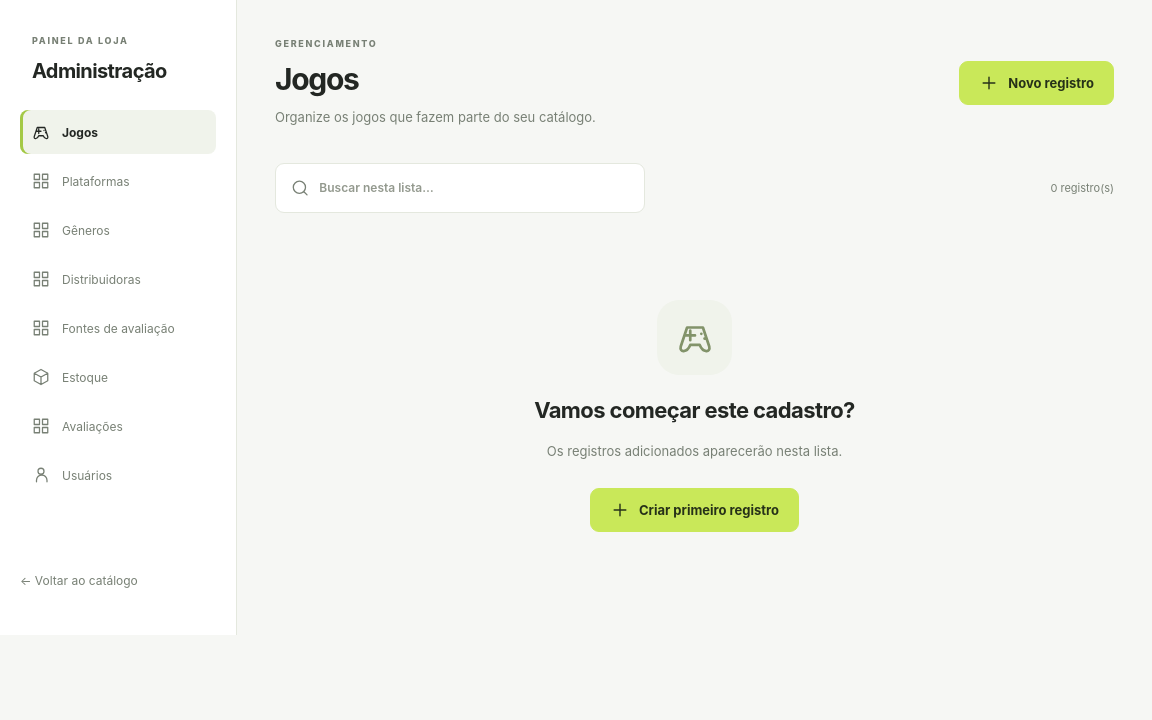
it: Formulários e fluxos do frontend › não deixa salvar jogo sem cadastros relacionados
The width and height of the screenshot is (1152, 720).
Click the button "Novo registro" at (1037, 83), box x1=959 y1=61 x2=1114 y2=105
(page scrolled)
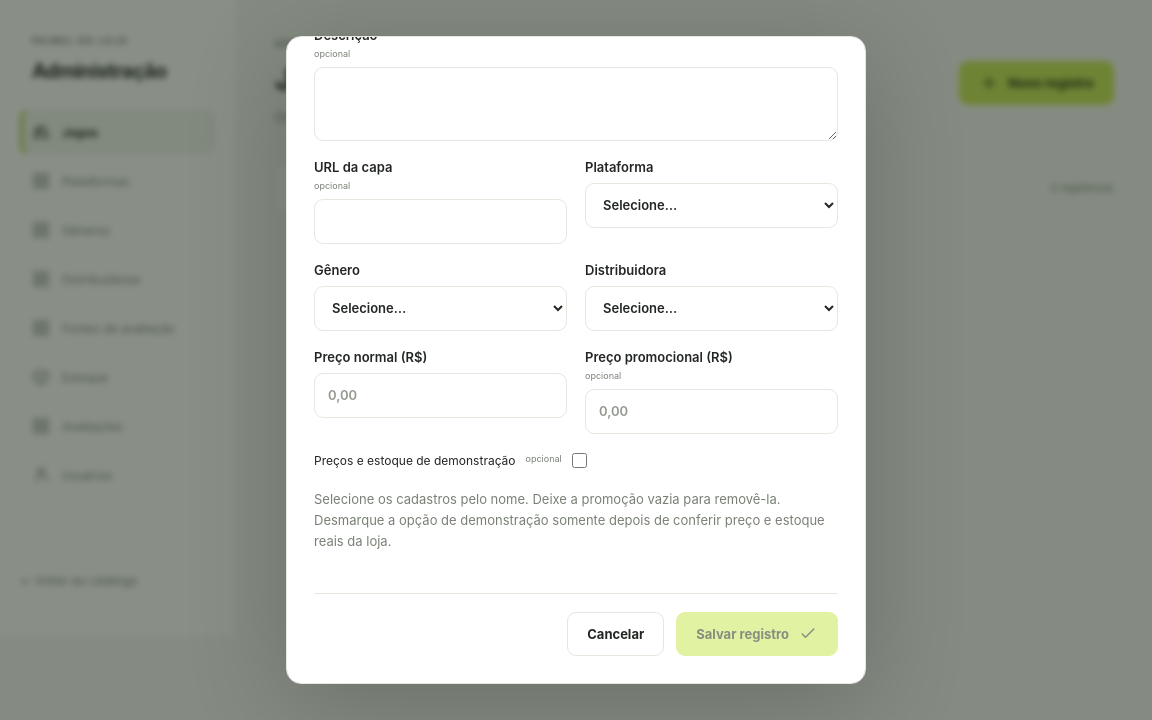
Expected: the button "Salvar registro" is disabled, x1=676 y1=612 x2=838 y2=656
